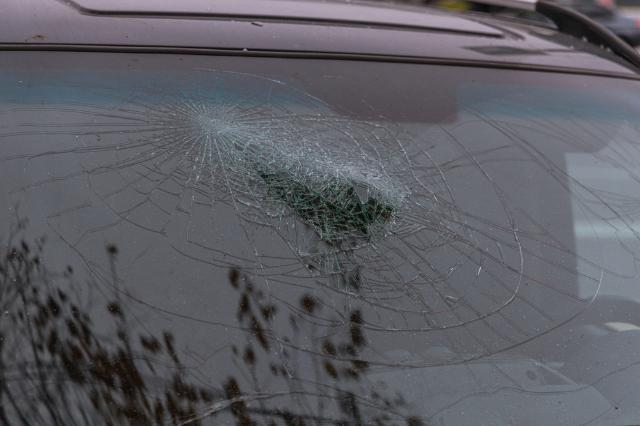glass shatter: (0, 50, 640, 426)
